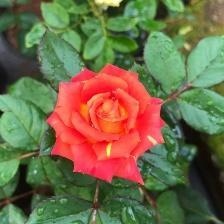rose: (46, 66, 169, 190)
